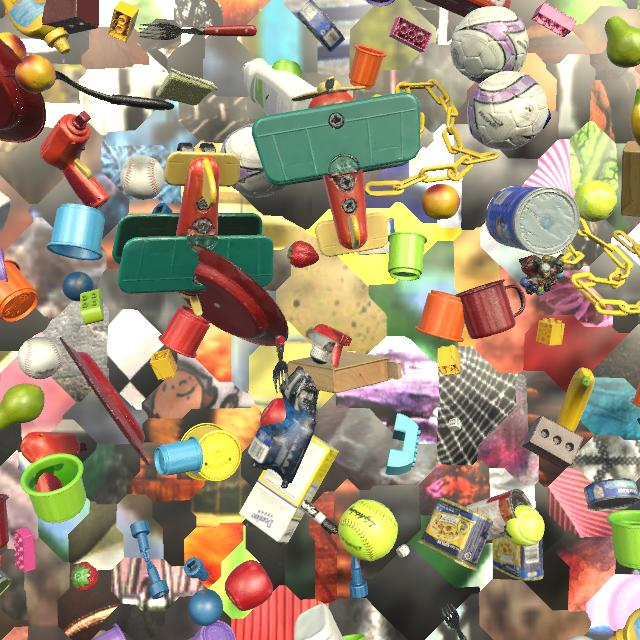ycb_002_master_chef_can: (485, 186, 580, 256)
ycb_003_cracker_box: (425, 0, 511, 17)
ycb_004_sugar_box: (239, 435, 339, 543)
ycb_005_tomato_soup_can: (466, 488, 532, 541)
ycb_006_mustard_bottle: (1, 0, 71, 54), (608, 608, 640, 640)
ycb_007_tuna_fish_can: (297, 0, 345, 53), (584, 478, 640, 511)
ycb_010_potted_meat_can: (418, 497, 493, 571), (492, 535, 543, 581), (0, 569, 12, 596)
ycb_011_banana: (557, 368, 595, 432), (629, 89, 640, 146)
ycb_012_strawberry: (287, 240, 319, 268), (71, 562, 99, 591)
ycb_013_apple: (224, 560, 273, 611), (260, 398, 286, 426)
ycb_015_peach: (15, 55, 56, 93), (421, 184, 460, 220), (0, 32, 26, 59)
ycb_016_pear: (0, 383, 45, 430), (605, 16, 640, 68)
